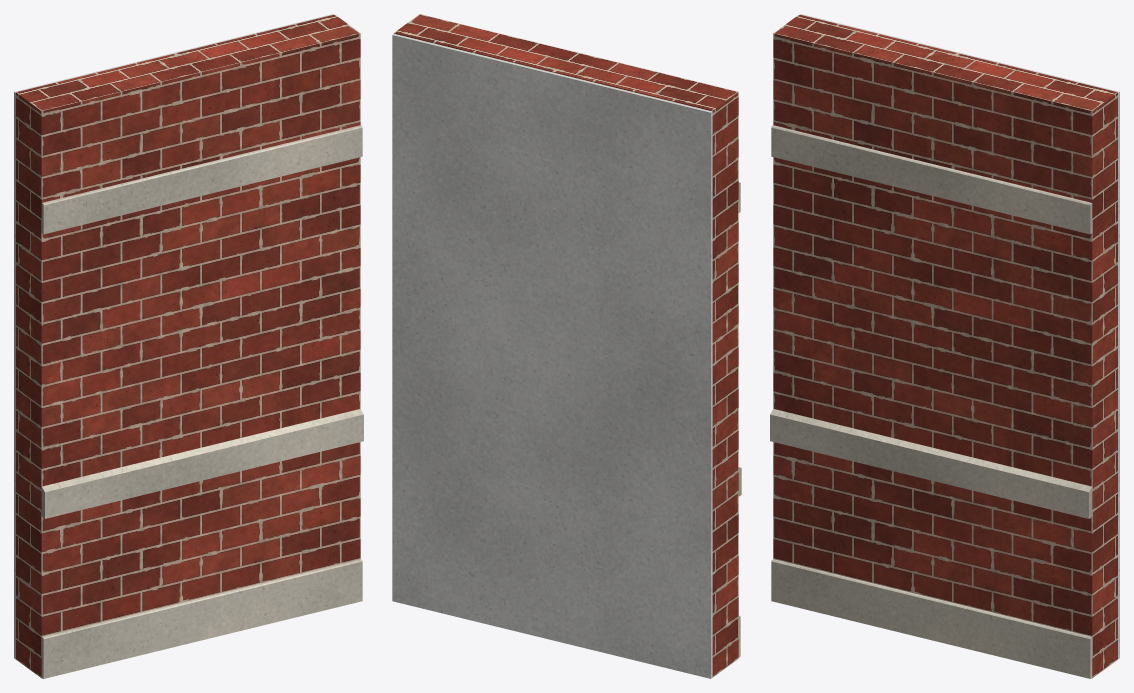
The model's file is w_u_plain.glb.
The picture shows the model from 3 angles, left to right: view 1: azimuth 30°, elevation 25°; view 2: azimuth 150°, elevation 25°; view 3: azimuth 330°, elevation 25°; orthographic projection.
Visible parts, largest first — view 1: w_u_plain_brick, w_u_plain_precast, w_u_plain_plaster; view 2: w_u_plain_plaster, w_u_plain_brick; view 3: w_u_plain_brick, w_u_plain_precast, w_u_plain_plaster.
Boxes of the visible parts, <box> form: w_u_plain_brick: <box>16,14,360,677</box>; w_u_plain_precast: <box>41,125,363,678</box>; w_u_plain_plaster: <box>14,14,333,659</box>; w_u_plain_plaster: <box>392,33,712,678</box>; w_u_plain_brick: <box>394,14,738,677</box>; w_u_plain_brick: <box>773,14,1117,677</box>; w_u_plain_precast: <box>770,125,1092,678</box>; w_u_plain_plaster: <box>800,14,1119,659</box>.
Bounding box in the file's own units: 2 × 3.4 × 0.335.
3 materials, 3 textured.
